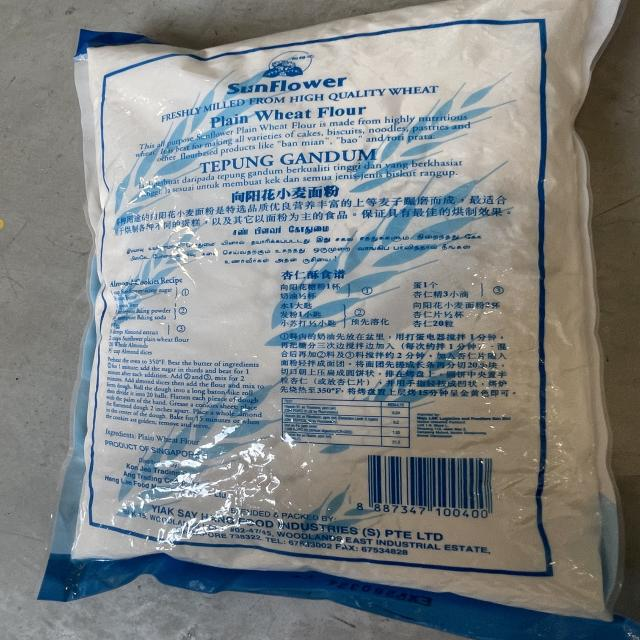object_name: (82, 38, 576, 599)
